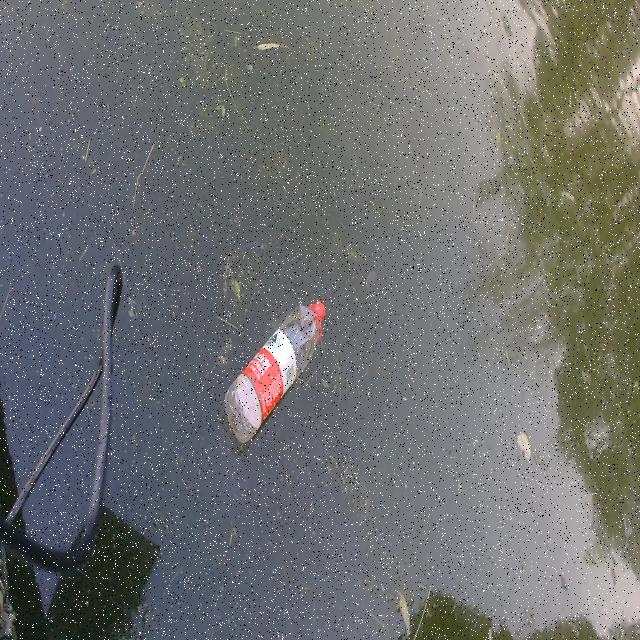Bottle: (223, 296, 329, 443)
